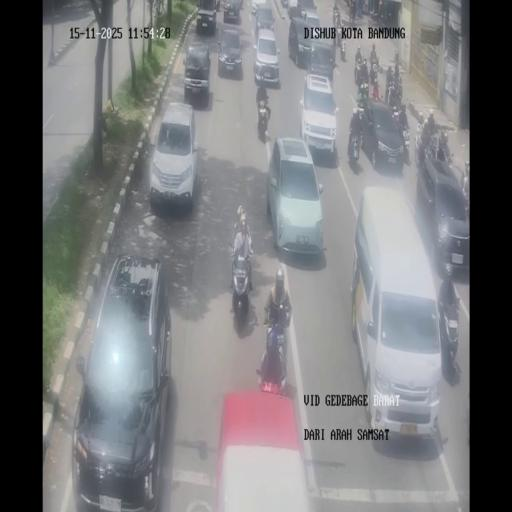car: (72, 255, 172, 508), (352, 190, 442, 438), (266, 134, 324, 258), (416, 146, 469, 269), (149, 101, 197, 211), (300, 72, 338, 158), (182, 42, 211, 105), (253, 28, 281, 87), (217, 27, 243, 81), (288, 16, 312, 69), (308, 43, 336, 84), (196, 0, 220, 34), (252, 2, 275, 33), (223, 0, 242, 24), (285, 0, 303, 18)
truck: (263, 305, 292, 379), (229, 245, 254, 323), (438, 292, 460, 367), (397, 118, 411, 165), (347, 122, 361, 163), (257, 100, 270, 140), (460, 181, 470, 225), (414, 128, 424, 165), (436, 136, 450, 162), (392, 73, 403, 104), (354, 54, 365, 84), (356, 82, 368, 107), (256, 81, 269, 103), (369, 52, 380, 76), (368, 3, 380, 24), (335, 21, 343, 50), (371, 80, 382, 100), (330, 37, 338, 64), (332, 4, 341, 26), (349, 0, 357, 22), (378, 1, 386, 23), (362, 1, 368, 15)
